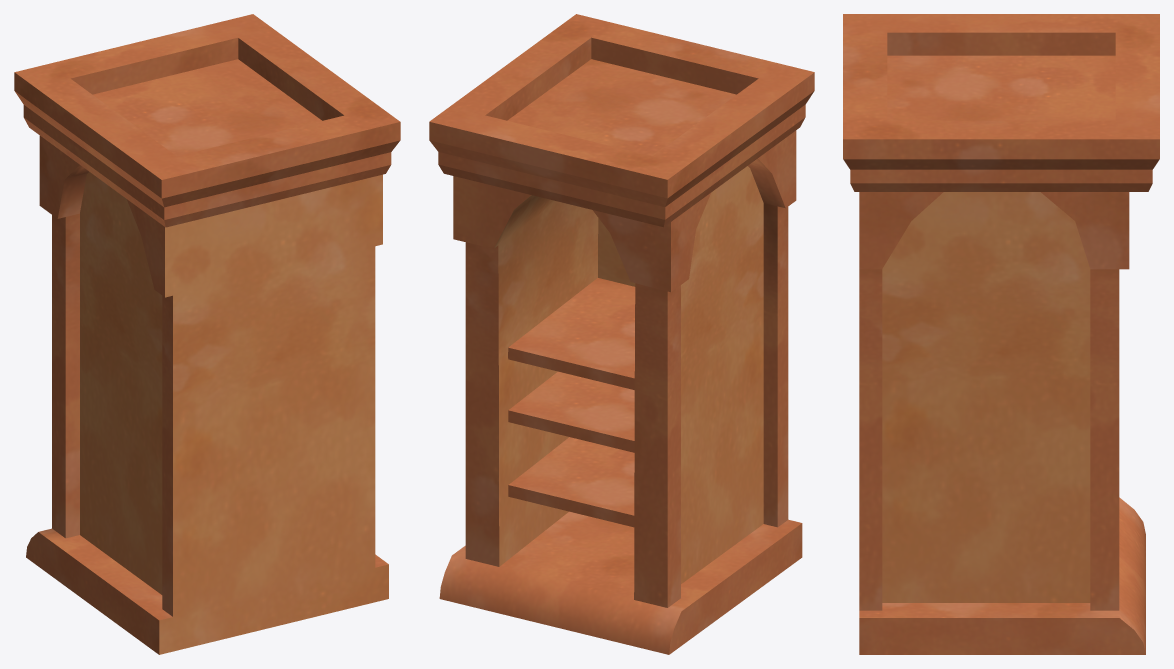
Rendered from SM_Open_Library.fbx.
3 views of the same model, side by side, from view 1: azimuth 30°, elevation 25°; view 2: azimuth 150°, elevation 25°; view 3: azimuth 270°, elevation 25° (orthographic). The views are drawn at different scales.
Visible parts, largest first — view 1: SM_Open_Library_pt2, SM_Open_Library_pt1; view 2: SM_Open_Library_pt2, SM_Open_Library_pt1; view 3: SM_Open_Library_pt2, SM_Open_Library_pt1.
Part boxes in pixels (x1,y1,x2,y2): SM_Open_Library_pt2: (14,14,400,410); SM_Open_Library_pt1: (26,322,388,654); SM_Open_Library_pt2: (429,14,814,401); SM_Open_Library_pt1: (439,314,802,654); SM_Open_Library_pt2: (843,14,1159,388); SM_Open_Library_pt1: (859,381,1145,654).
Size of the model in its own units: 103 by 199 by 111.
